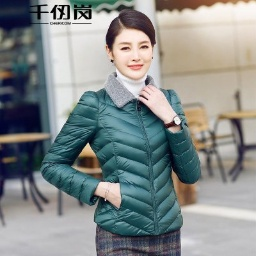face: (104, 9, 157, 83)
